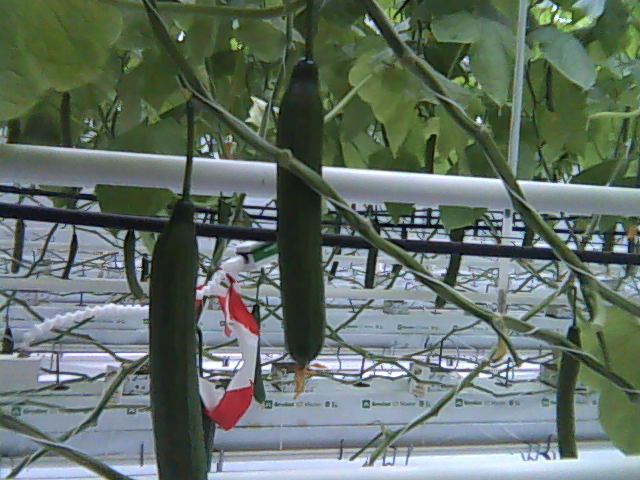concombre: (273, 55, 328, 396), (147, 197, 212, 480)
